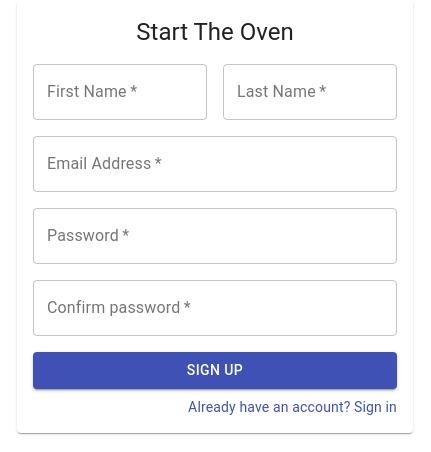
Scenario: RegisterForm › Last name input field stores input in hook
The width and height of the screenshot is (431, 452).
Type "Te" into the field with test id "lastName". click: (310, 92)
box: [223,64,397,120]
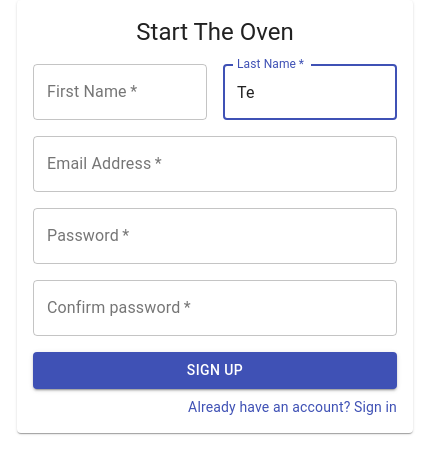
Type "st" into the field with test id "lastName". click: (310, 92)
box: [223,64,397,120]
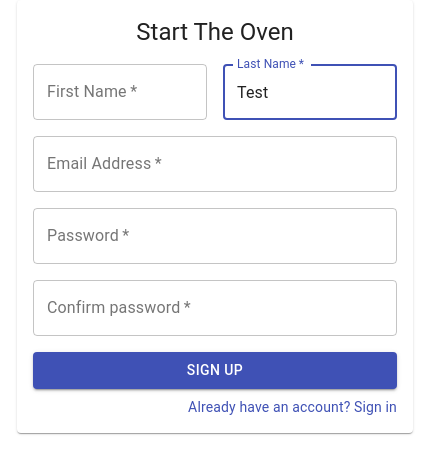
Expected: the field with test id "lastName" holds "Test", [223,64,397,120]
